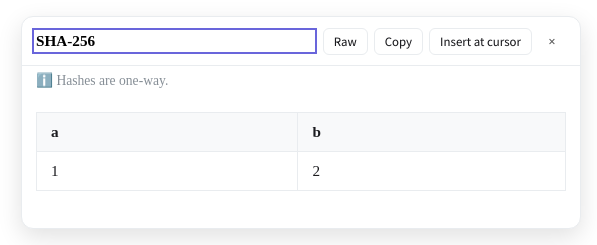
Test: ResultPanel › renders the report as Markdown with copy/insert/raw toggle
Later steps or results of the test are not shown.
Check: the table is shown, box [36,112,566,191]
Check: the text "ℹ️ Hashes are one-way." is shown, box [36,73,168,88]
What coordinates should you click on to do the following:
click the button "Raw"
I would click on:
 (345, 41)
Its box is [323,28,368,55].
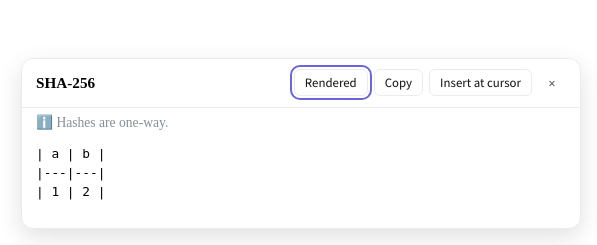
Check: the table is gone
